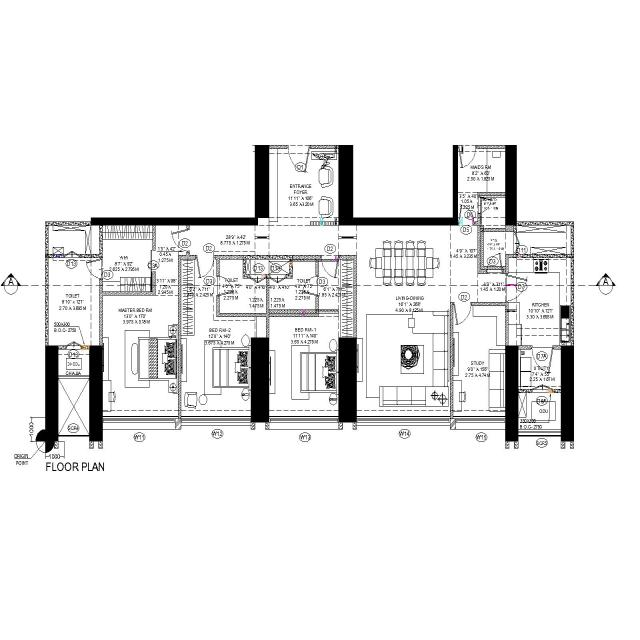Column: (250, 336, 271, 426), (90, 216, 258, 227), (338, 336, 358, 426), (88, 344, 105, 443), (504, 344, 520, 444), (44, 344, 59, 444), (560, 344, 575, 444), (253, 143, 271, 220), (338, 143, 354, 227), (504, 144, 518, 226), (351, 216, 455, 227), (452, 144, 459, 227)
Door: (320, 254, 340, 262), (286, 144, 311, 150), (530, 344, 555, 350), (268, 273, 287, 280), (459, 218, 475, 226), (195, 254, 216, 260), (452, 301, 472, 307), (505, 272, 509, 302), (513, 231, 518, 255), (530, 388, 550, 394), (63, 253, 82, 259), (248, 273, 266, 279), (486, 269, 504, 275), (65, 344, 82, 350), (477, 195, 482, 215), (100, 256, 104, 280), (152, 249, 156, 273), (186, 228, 190, 252), (315, 274, 319, 296), (456, 145, 478, 149), (216, 276, 220, 296)
Window: (355, 414, 452, 424), (100, 414, 180, 424), (181, 414, 253, 424), (268, 414, 340, 424), (455, 418, 507, 423)
